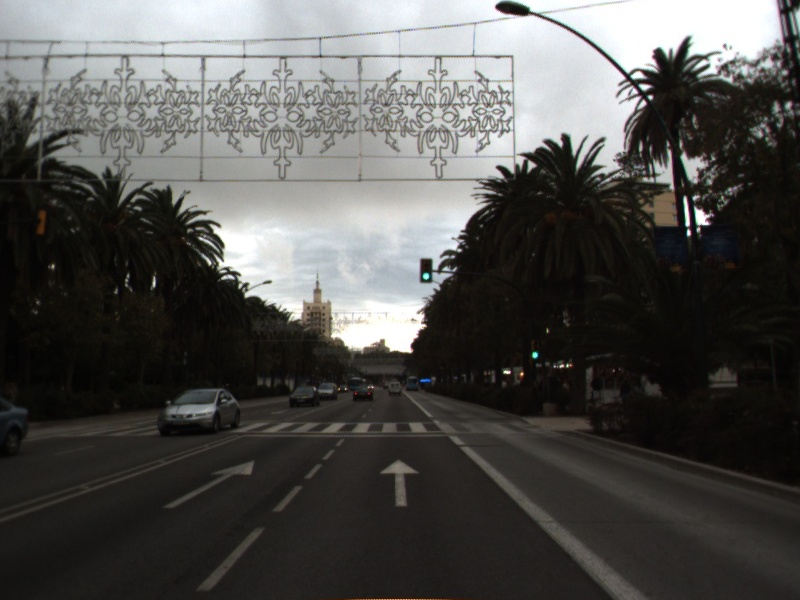STRAIGHT: (161, 458, 256, 510), (378, 457, 421, 508)
